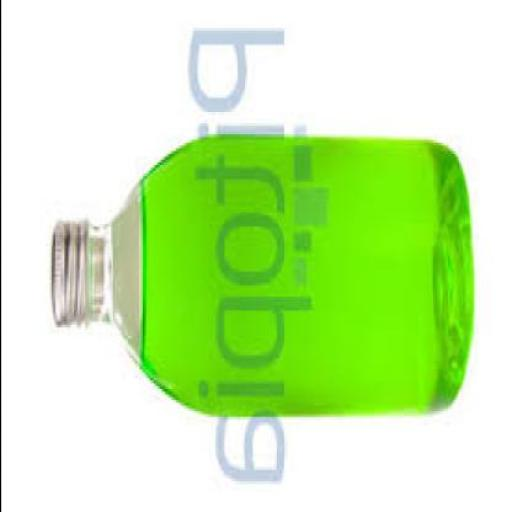glass: (88, 131, 472, 412)
metal: (46, 216, 96, 322)
